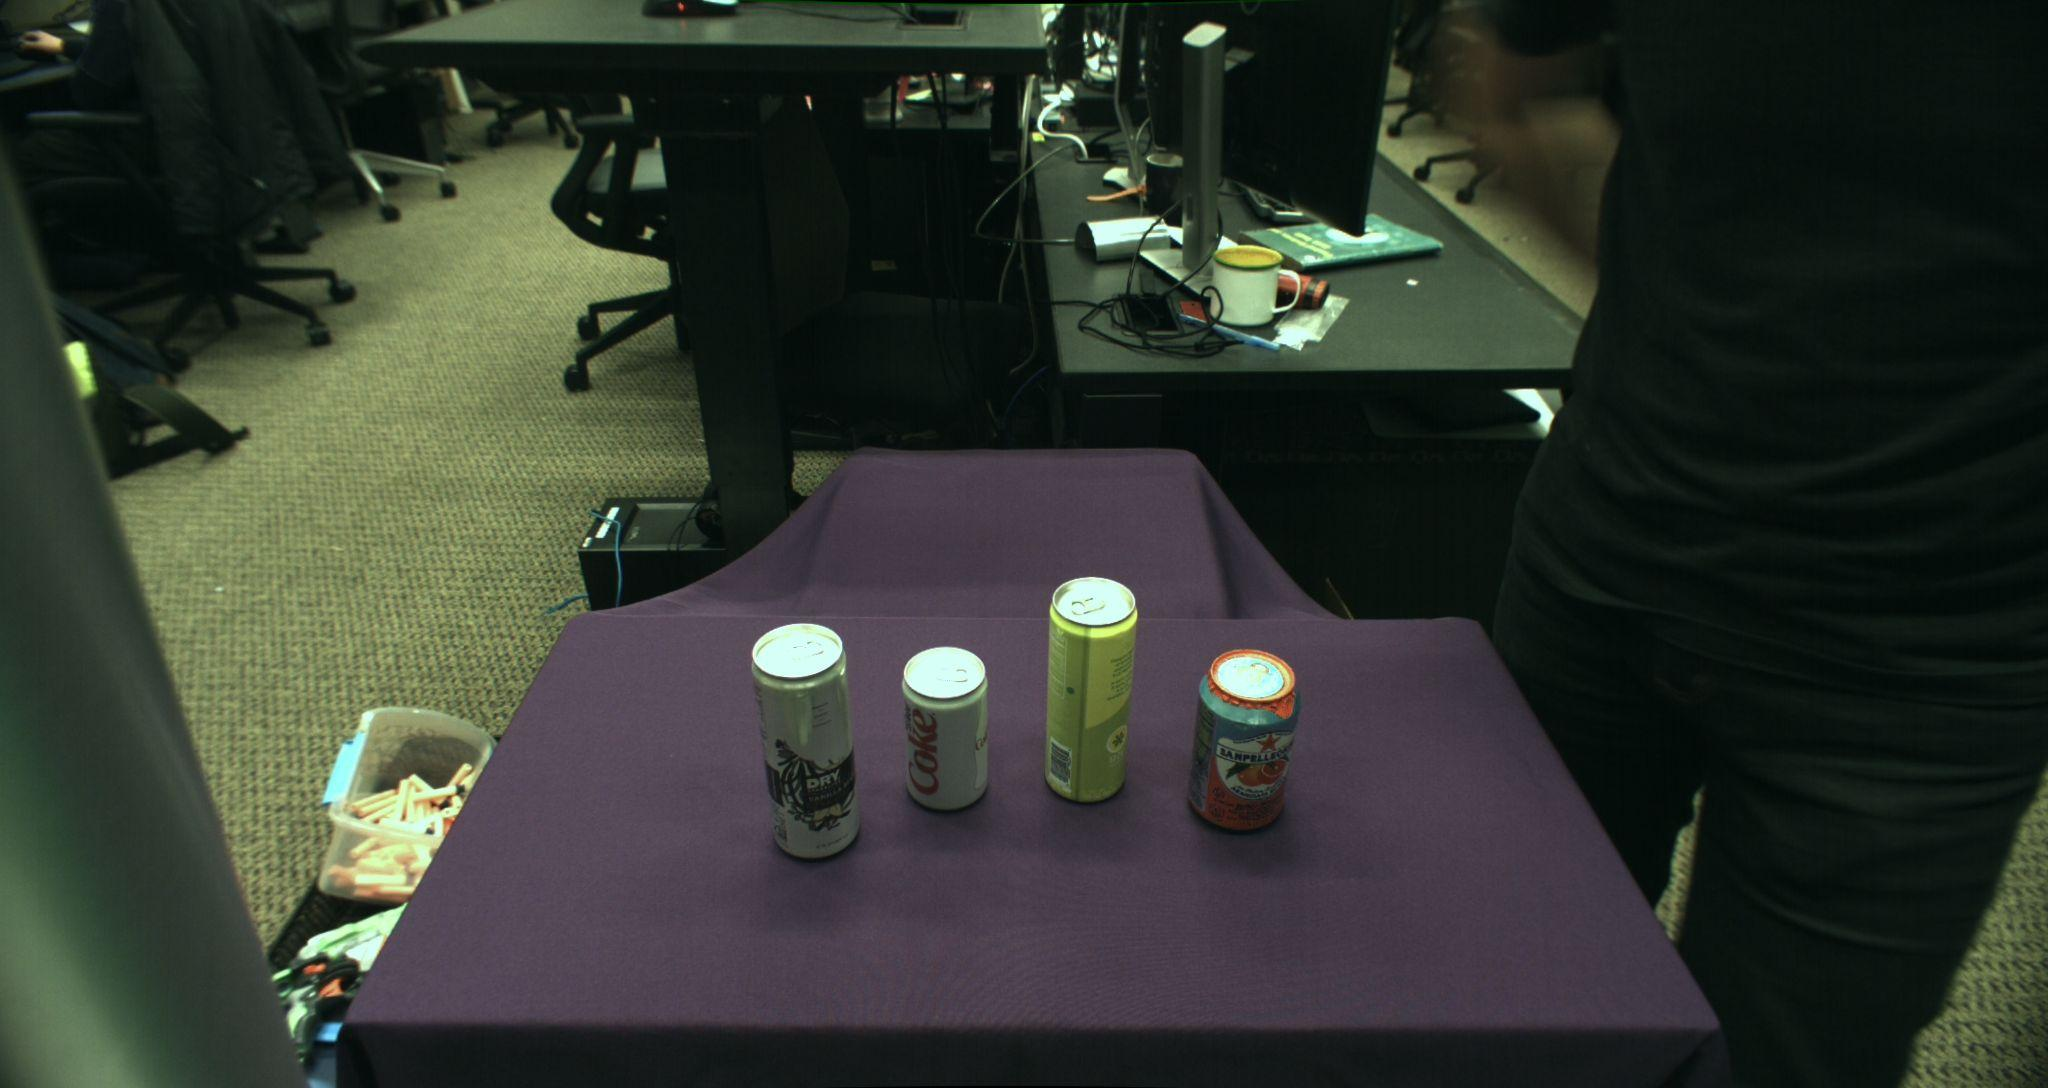can_diet_coke_small: (899, 645, 990, 812)
can_dry_sparkling_vanilla_bean: (750, 621, 860, 860)
can_izze_fusions_lemon_lime: (1043, 574, 1136, 803)
can_sanpellegrino_blood_orange: (1187, 648, 1302, 832)
